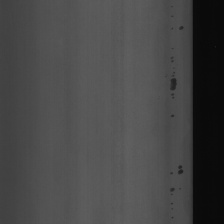oil_spot: (168, 51, 177, 121), (168, 170, 176, 219), (177, 159, 184, 190), (179, 15, 186, 41)
